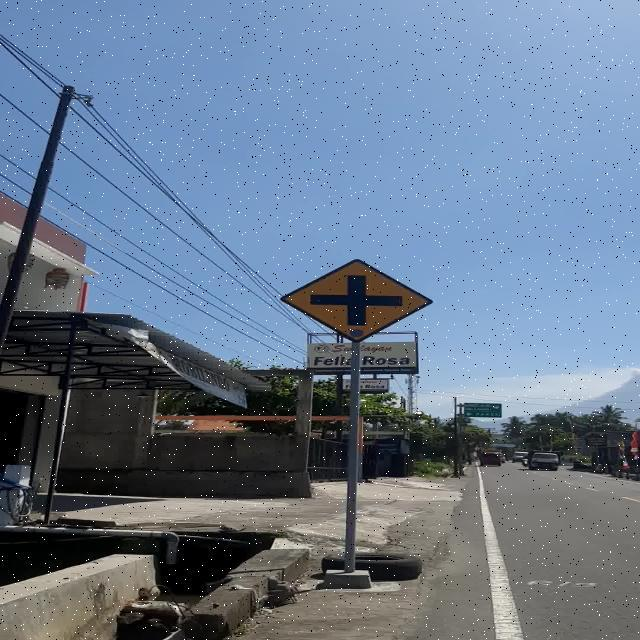Persimpangan 4: (280, 258, 433, 344)
